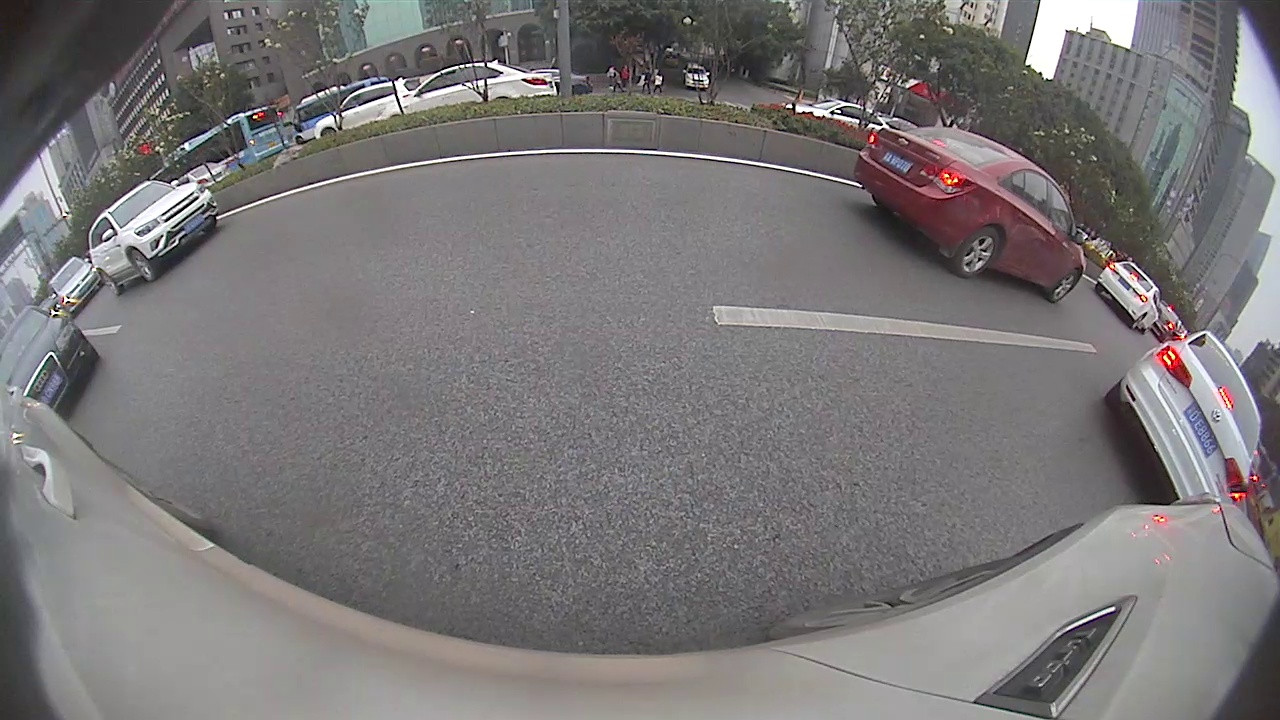car: (855, 119, 1086, 302), (1100, 329, 1274, 503), (88, 178, 220, 295), (0, 299, 101, 413), (382, 63, 556, 118), (1094, 260, 1160, 333), (42, 257, 102, 317)
front: (1049, 269, 1080, 303), (127, 248, 156, 283), (321, 128, 337, 143)
rear: (955, 226, 999, 277), (97, 269, 121, 296)
